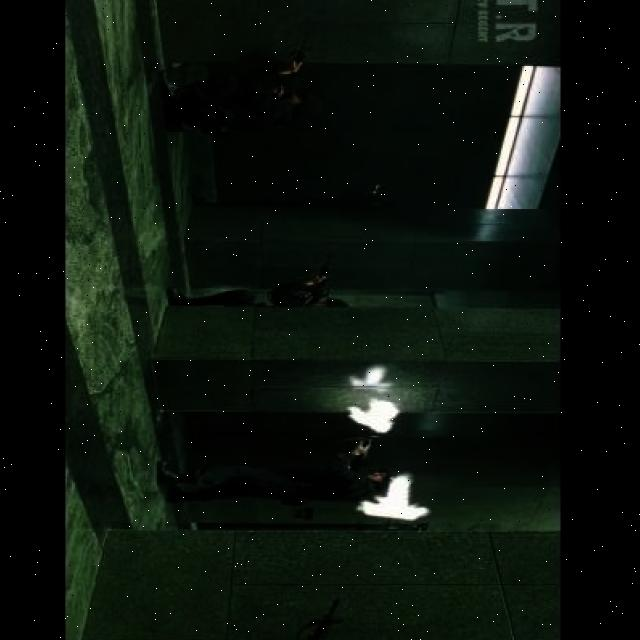Rifle: (276, 35, 308, 99), (308, 597, 343, 640), (305, 257, 330, 306), (349, 425, 371, 470)
